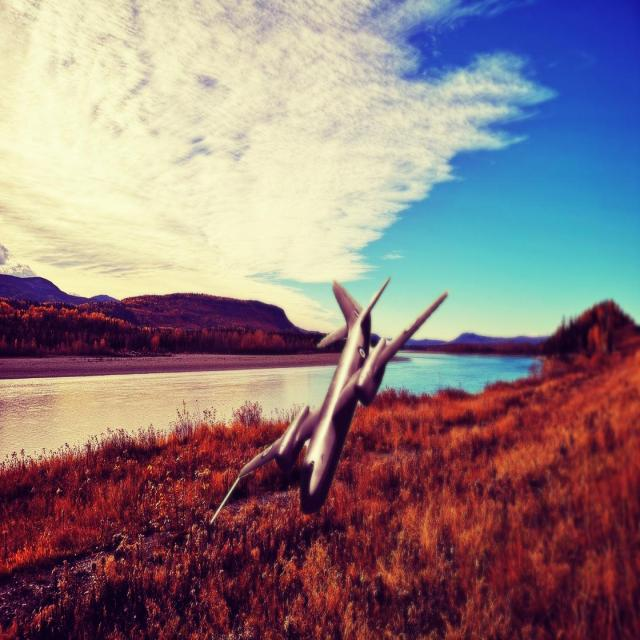airplane: (209, 276, 448, 525)
